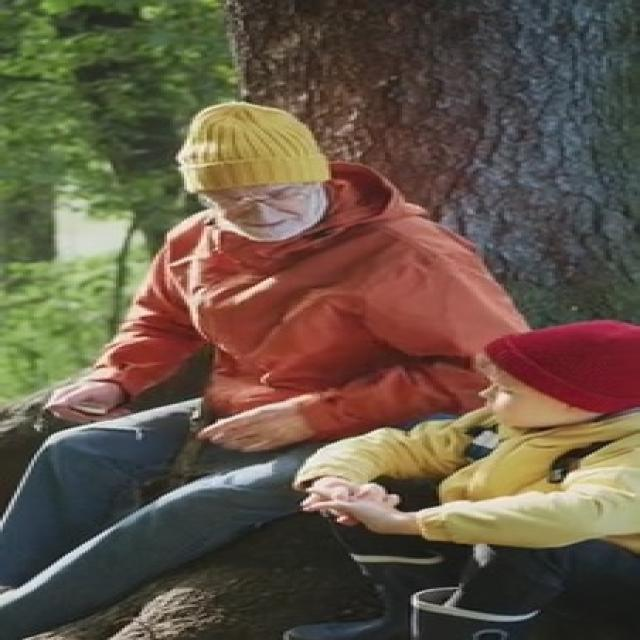Jacket_Wearer: (90, 197, 531, 433)
Person: (87, 122, 529, 605)
